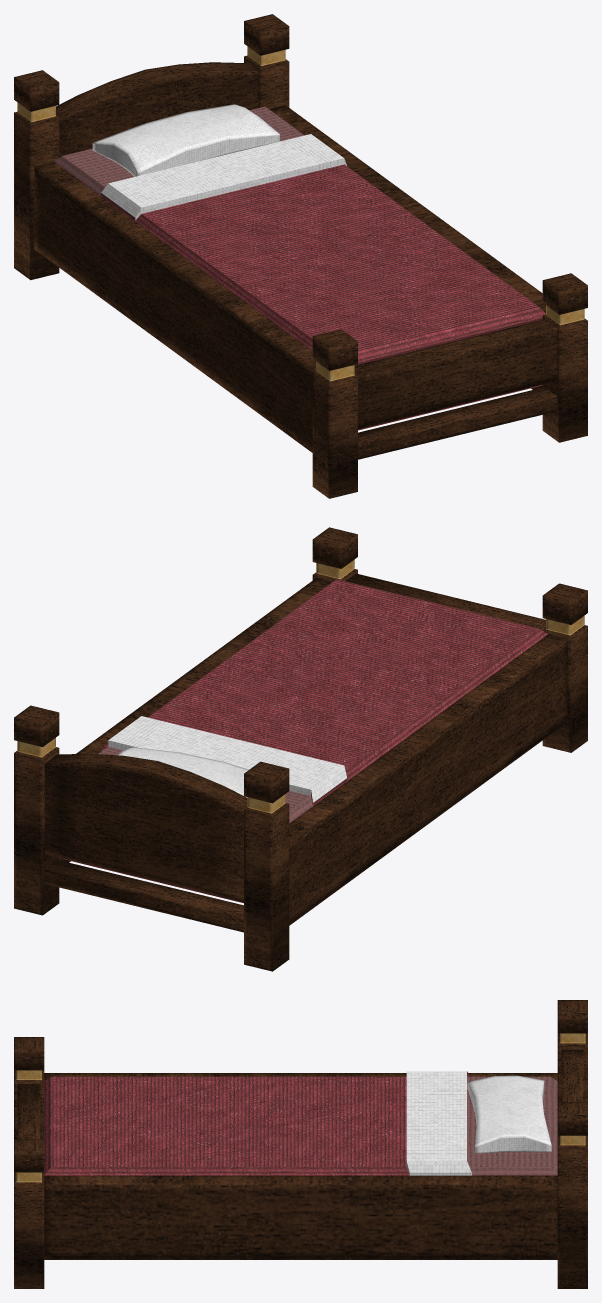
The model's file is bed.small.fbx.
3 views of the same model, one above another, from view 1: azimuth 30°, elevation 25°; view 2: azimuth 150°, elevation 25°; view 3: azimuth 270°, elevation 25° (orthographic). The views are drawn at different scales.
Visible parts, largest first — view 1: Bed.Base, Ext.002, Ext.003, Ext.004, Pillow.001, Leg.001, Leg.003, Leg.002, Ext.006, Ext.001, Leg.004; view 2: Bed.Base, Ext.002, Ext.004, Leg.003, Leg.004, Ext.007, Leg.001, Ext.001, Ext.003, Pillow.001, Leg.002; view 3: Bed.Base, Ext.001, Leg.004, Pillow.001, Leg.002, Leg.003, Leg.001, Ext.002, Ext.003, Ext.004.
Boxes of the visible parts, bbox=[...] form: Bed.Base: bbox=[54, 106, 545, 430]; Ext.002: bbox=[34, 162, 316, 452]; Ext.003: bbox=[354, 319, 557, 429]; Ext.004: bbox=[56, 62, 258, 157]; Pillow.001: bbox=[92, 104, 279, 176]; Leg.001: bbox=[312, 329, 357, 498]; Leg.003: bbox=[14, 70, 59, 280]; Leg.002: bbox=[542, 273, 587, 442]; Ext.006: bbox=[358, 387, 557, 459]; Ext.001: bbox=[269, 105, 545, 389]; Leg.004: bbox=[244, 14, 289, 109]; Bed.Base: bbox=[59, 579, 547, 903]; Ext.002: bbox=[289, 634, 567, 925]; Ext.004: bbox=[44, 753, 247, 902]; Leg.003: bbox=[244, 761, 289, 971]; Leg.004: bbox=[14, 705, 59, 915]; Ext.007: bbox=[44, 860, 243, 932]; Leg.001: bbox=[542, 583, 587, 752]; Ext.001: bbox=[59, 578, 332, 862]; Ext.003: bbox=[345, 573, 545, 630]; Pillow.001: bbox=[117, 747, 248, 797]; Leg.002: bbox=[312, 527, 357, 581]; Bed.Base: bbox=[44, 1071, 557, 1175]; Ext.001: bbox=[44, 1175, 557, 1259]; Leg.004: bbox=[557, 1102, 587, 1288]; Pillow.001: bbox=[467, 1075, 551, 1153]; Leg.002: bbox=[14, 1139, 44, 1288]; Leg.003: bbox=[557, 1000, 587, 1102]; Leg.001: bbox=[14, 1037, 44, 1139]; Ext.002: bbox=[44, 1073, 557, 1080]; Ext.003: bbox=[17, 1084, 40, 1139]; Ext.004: bbox=[561, 1049, 584, 1102].
Bounding box in the file's own units: 90 × 63.47 × 190.
